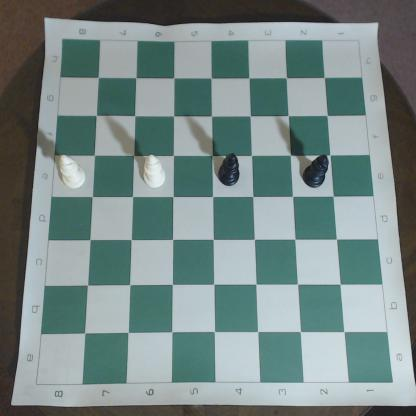black-bishop: (302, 152, 330, 191), (219, 152, 241, 190)
white-bishop: (58, 150, 91, 191), (141, 151, 169, 193)
